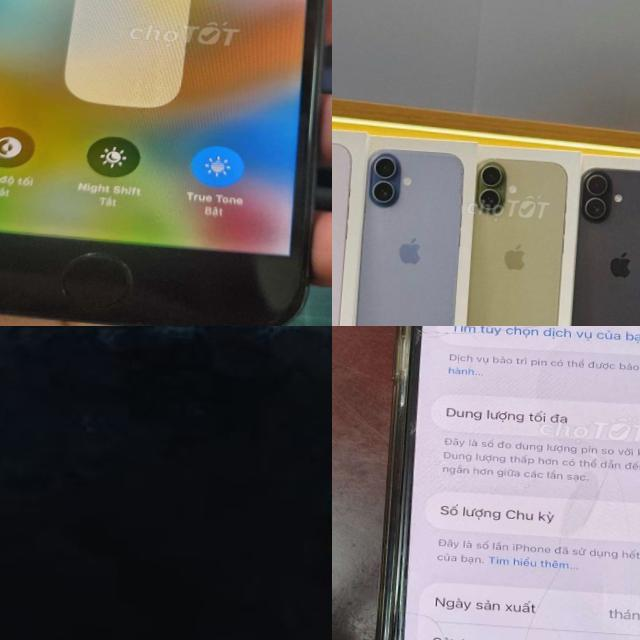screen_defect: (563, 449, 612, 557), (412, 326, 566, 353)
